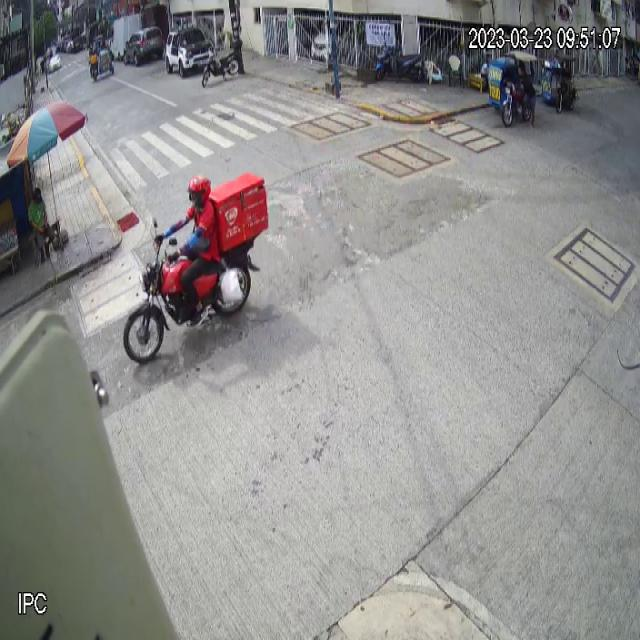Motorcycle: (122, 214, 256, 364)
Tricycle: (488, 49, 538, 128)
